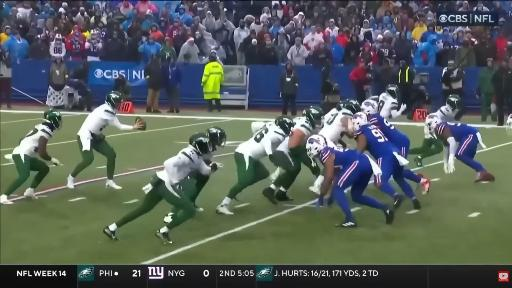Helmet: (189, 133, 211, 155), (306, 135, 327, 158), (206, 127, 226, 150), (304, 106, 323, 128), (275, 116, 294, 135), (337, 100, 361, 115), (44, 110, 62, 129), (337, 99, 360, 113), (426, 114, 441, 135), (106, 91, 122, 109), (352, 112, 367, 130), (344, 100, 361, 115), (361, 100, 378, 114), (447, 95, 461, 110), (386, 85, 399, 99), (337, 100, 347, 111), (506, 114, 511, 135), (347, 99, 359, 105), (368, 96, 379, 101)
Jersey: (157, 147, 211, 185), (236, 126, 286, 159), (356, 124, 397, 159), (12, 124, 53, 157), (369, 114, 409, 147), (277, 117, 313, 153), (78, 104, 118, 135), (319, 110, 353, 142), (436, 122, 478, 142), (320, 146, 358, 167), (378, 93, 398, 118), (435, 105, 457, 121)
Player: (104, 133, 221, 243), (306, 135, 394, 227), (67, 92, 146, 189), (216, 116, 294, 214), (353, 113, 420, 209), (263, 106, 323, 204), (0, 110, 62, 204), (429, 118, 494, 182), (410, 95, 461, 166), (363, 100, 410, 158), (319, 101, 360, 148), (319, 101, 360, 147), (410, 114, 442, 166), (184, 172, 210, 211), (378, 85, 406, 119), (435, 95, 461, 121), (312, 114, 329, 134), (251, 121, 275, 135), (506, 114, 511, 135)
